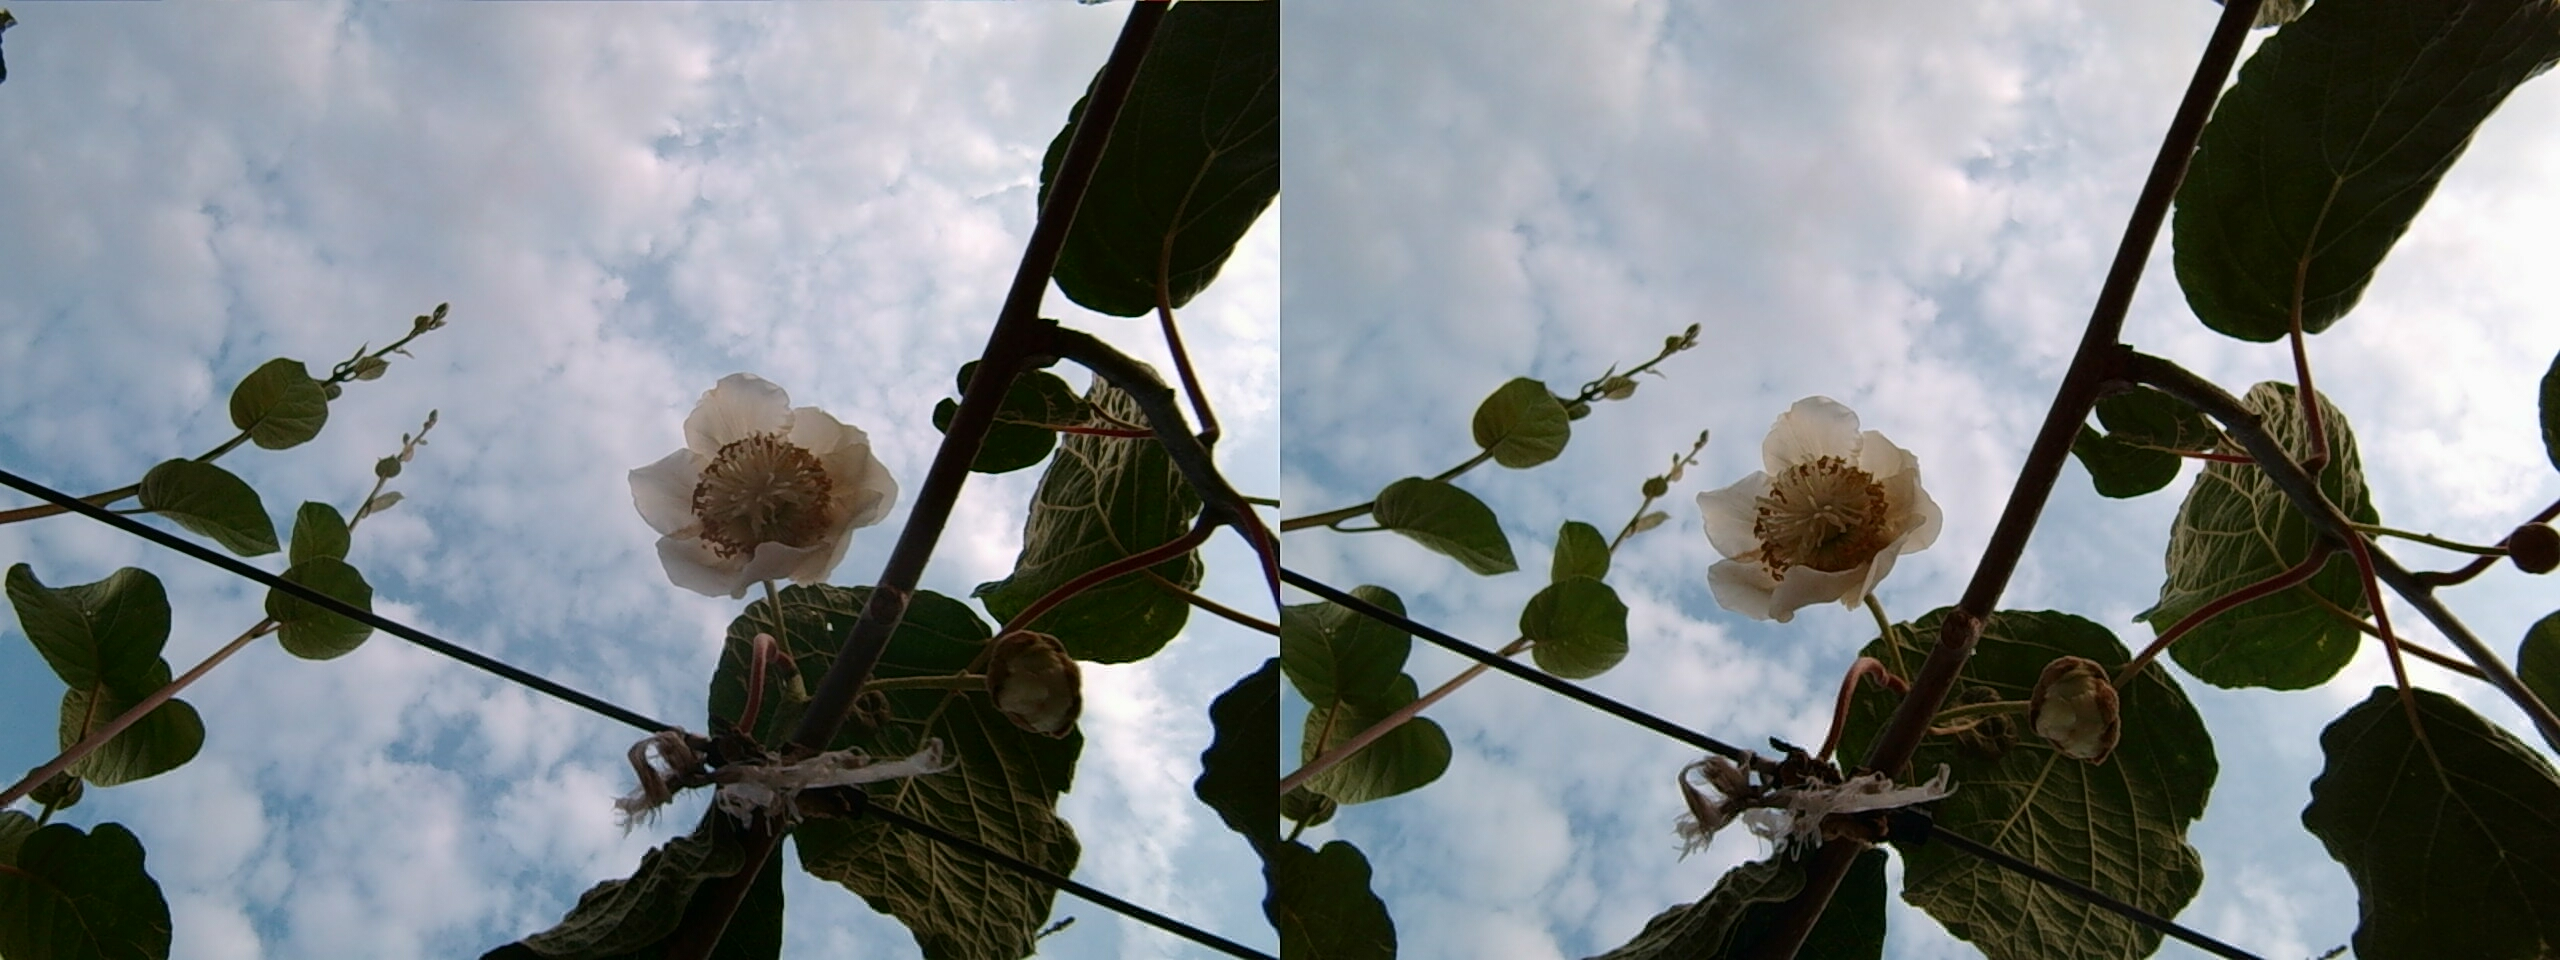flower: (619, 361, 883, 596), (1691, 380, 1933, 619)
